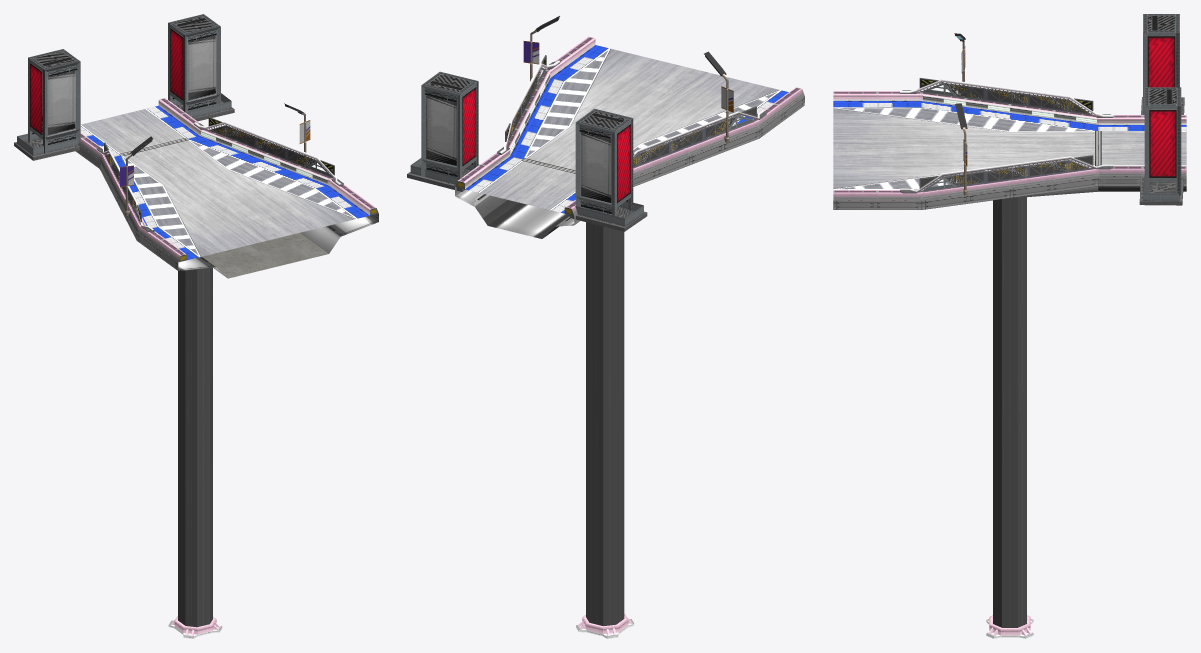
The picture shows the model from 3 angles, left to right: view 1: azimuth 30°, elevation 25°; view 2: azimuth 150°, elevation 25°; view 3: azimuth 270°, elevation 25°; orthographic projection. The views are drawn at different scales.
Parts seen in each view (by area): view 1: transition_road, support_pylon, pro_tall_banners_1, standard_bridge11, pro_tall_banners, wall_drift7, corner_arrows_steering, support_ground, pro_streetlight_banner; view 2: transition_road, support_pylon, pro_tall_banners_1, pro_tall_banners, standard_bridge11, wall_drift7, corner_arrows_steering, support_ground, pro_streetlight_banner, pro_streetlight_banner_1; view 3: transition_road, support_pylon, wall_drift7, corner_arrows_steering, pro_tall_banners, standard_bridge11, pro_tall_banners_1, support_ground.
Boxes of the visible parts, x1,y1,x2,y2 form: transition_road: (80, 105, 369, 260); support_pylon: (178, 267, 212, 627); pro_tall_banners_1: (14, 49, 83, 160); standard_bridge11: (75, 145, 378, 278); pro_tall_banners: (165, 14, 234, 121); wall_drift7: (66, 98, 378, 262); corner_arrows_steering: (96, 117, 343, 232); support_ground: (168, 616, 222, 638); pro_streetlight_banner: (120, 136, 152, 215); transition_road: (465, 45, 788, 213); support_pylon: (586, 222, 624, 626); pro_tall_banners_1: (569, 108, 647, 231); pro_tall_banners: (407, 71, 482, 191); standard_bridge11: (455, 96, 804, 238); wall_drift7: (455, 36, 804, 215); corner_arrows_steering: (497, 55, 766, 167); support_ground: (576, 613, 634, 638); pro_streetlight_banner: (704, 51, 733, 142); pro_streetlight_banner_1: (523, 16, 559, 81); transition_road: (833, 101, 1186, 189); support_pylon: (993, 197, 1026, 627); wall_drift7: (833, 91, 1186, 200); corner_arrows_steering: (900, 78, 1113, 193); pro_tall_banners: (1139, 87, 1183, 205); standard_bridge11: (833, 124, 1186, 209); pro_tall_banners_1: (1141, 14, 1184, 114); support_ground: (986, 615, 1033, 638).
Bounding box in the file's own units: 4490 × 11372 × 6400.
